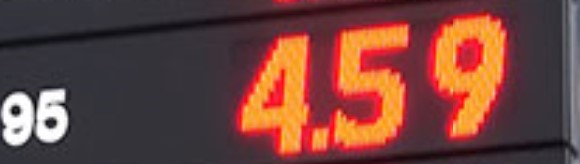digits: (325, 20, 414, 159), (426, 10, 512, 145), (232, 27, 317, 161)
